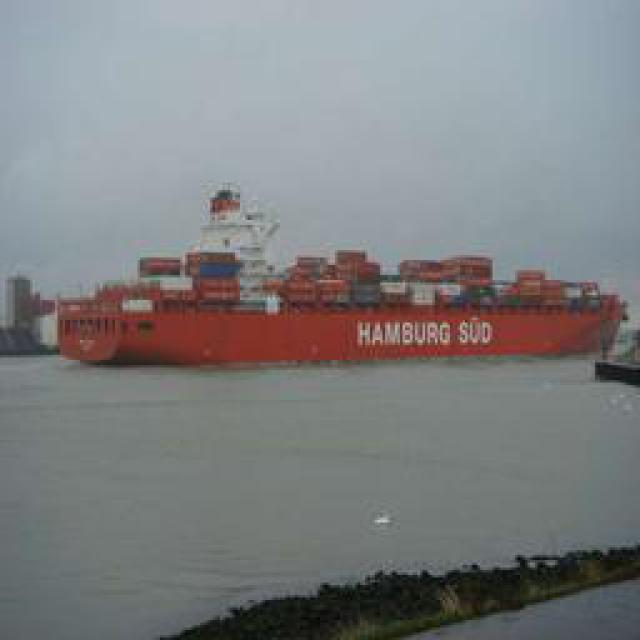Ship: (51, 173, 640, 371)
